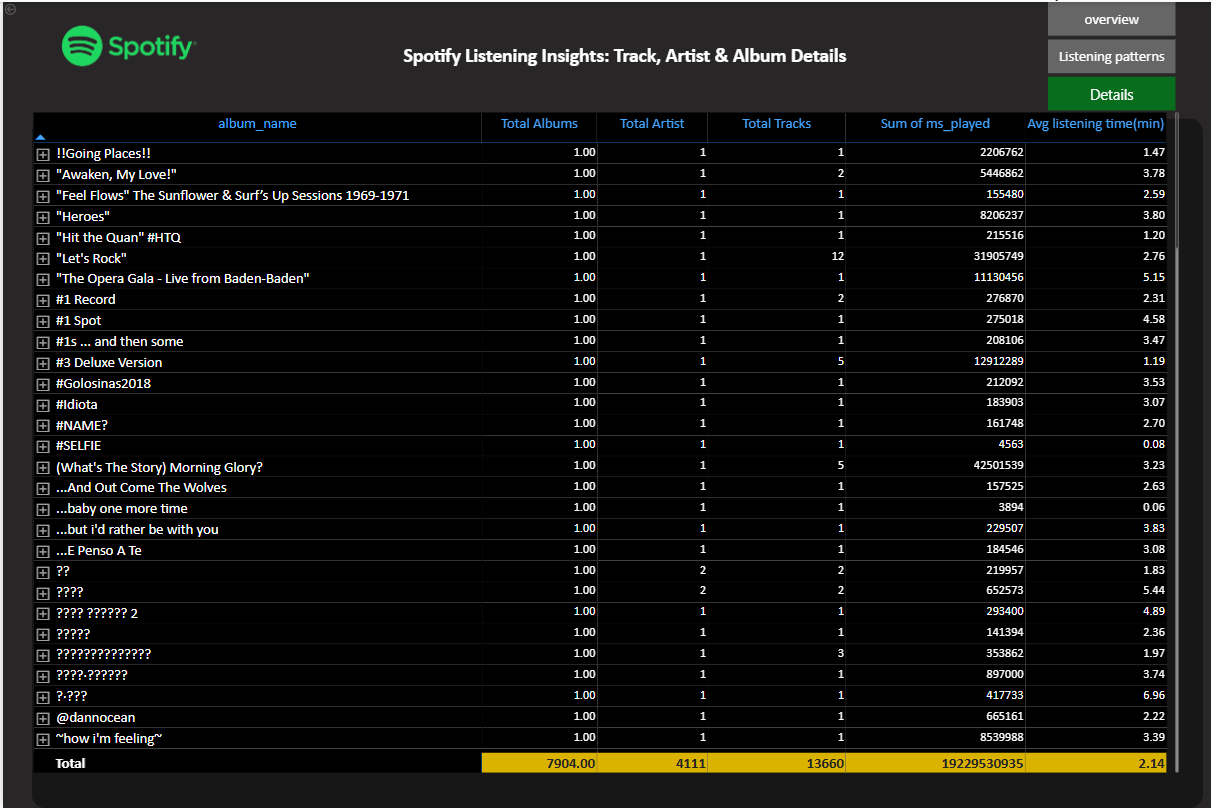

The dashboard page shown, as its layout file describes it:
{"tool":"powerbi","page":{"name":"Details","canvas":[3300,2200],"ordinal":2},"visuals":[{"type":"image","box":[0,0,687.4,251.2],"z":0},{"type":"shape","box":[78.5,317.3,3197,1883.4],"z":1000},{"type":"pivotTable","fields":{"Rows":["spotify_history.album_name","spotify_history.artist_name","spotify_history.track_name","spotify_history.platform","spotify_history.Track Play Date"],"Values":["spotify_history.Total Albums","spotify_history.Total Artist","spotify_history.Total Tracks","Sum(spotify_history.ms_played)","spotify_history.Avg listening time(min)"]},"box":[78.5,296.8,3135.6,1811.7],"z":2000},{"type":"actionButton","box":[0,0,100,40],"z":3000},{"type":"pageNavigator","box":[2852.4,0,348,296.8],"z":4000},{"type":"textbox","box":[999.7,109.2,1395.5,88.7],"z":5000}]}

Visuals, with their boxes in screenshot pixels (x1, y1, x2, y2), scaled from the page's 3300x2200 canvas onto the 1211x808 screenshot:
image: 0 0 252 92
shape: 29 117 1202 807
pivotTable - spotify_history.album_name x spotify_history.artist_name: 29 109 1179 774
actionButton: 0 0 37 15
pageNavigator: 1047 0 1174 109
textbox: 367 40 879 73
